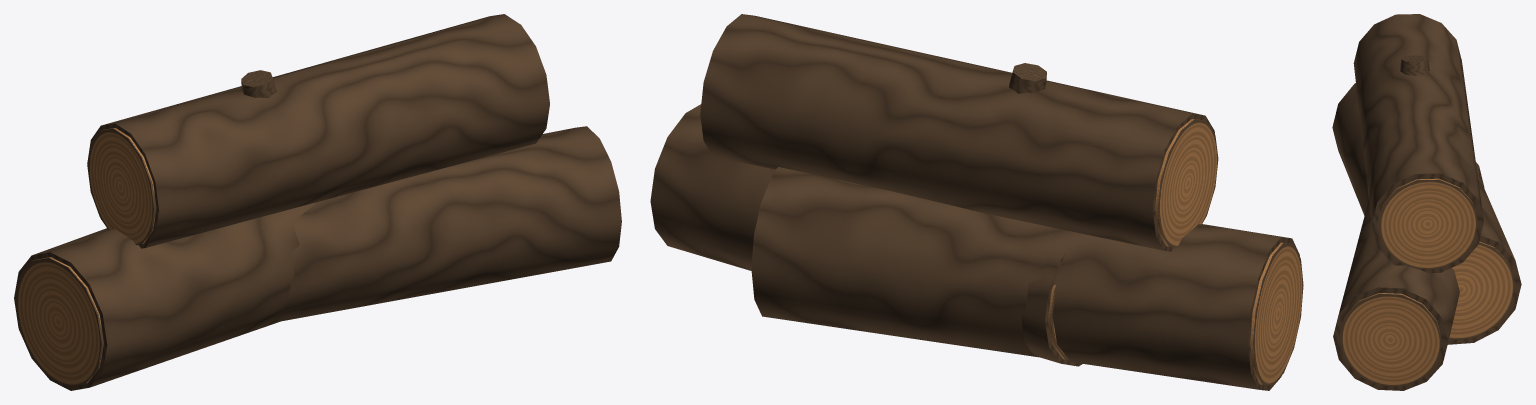
File: logs.glb
The picture shows the model from 3 angles, left to right: view 1: azimuth 30°, elevation 25°; view 2: azimuth 150°, elevation 25°; view 3: azimuth 270°, elevation 25°; orthographic projection. The views are drawn at different scales.
Parts seen in each view (by area): view 1: log (×3); view 2: log (×3); view 3: log (×3).
Part boxes in pixels (x1,y1,x2,y2): log (×3): [14, 14, 621, 390]; log (×3): [650, 14, 1303, 390]; log (×3): [1332, 14, 1521, 390].
Bounding box in the file's own units: 0.6598 × 0.2853 × 0.2375.
Materials: 2 (2 with a texture image).
